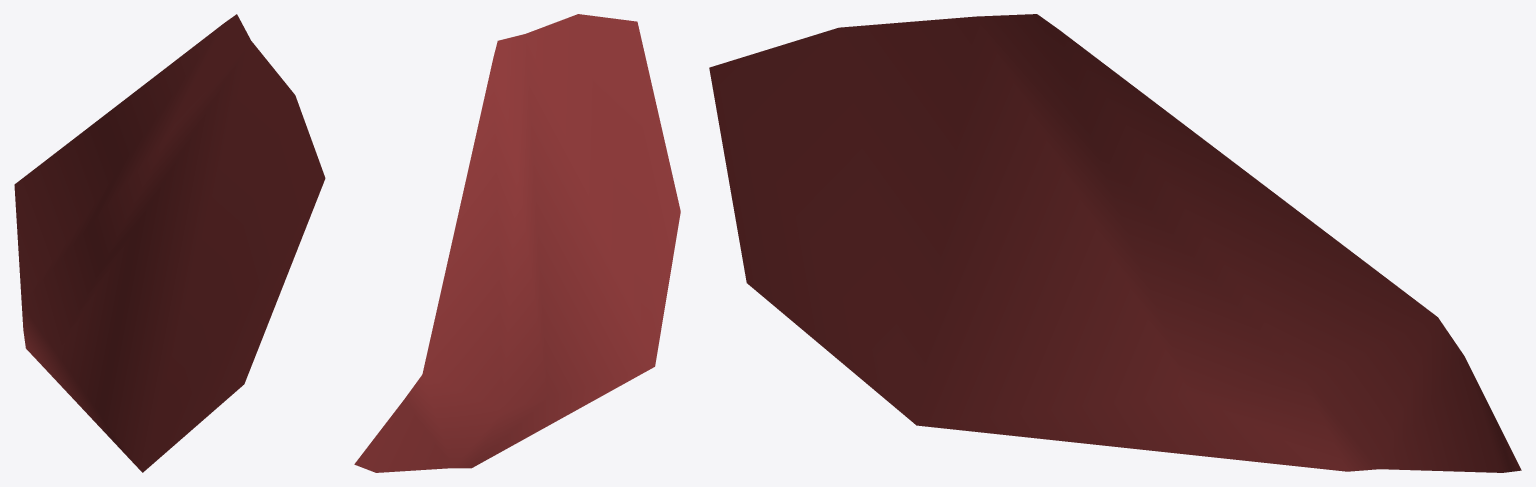
The model's file is splenius-colli-muscle-er.glb.
The picture shows the model from 3 angles, left to right: view 1: azimuth 30°, elevation 25°; view 2: azimuth 150°, elevation 25°; view 3: azimuth 270°, elevation 25°; orthographic projection. The views are drawn at different scales.
Visible parts, largest first — view 1: Splenius colli muscle.er; view 2: Splenius colli muscle.er; view 3: Splenius colli muscle.er.
Boxes of the visible parts, <box> form: Splenius colli muscle.er: <box>14,14,325,472</box>; Splenius colli muscle.er: <box>354,14,680,472</box>; Splenius colli muscle.er: <box>709,14,1521,472</box>.
Size of the model in its own units: 0.00061 by 0.00165 by 0.00237.
